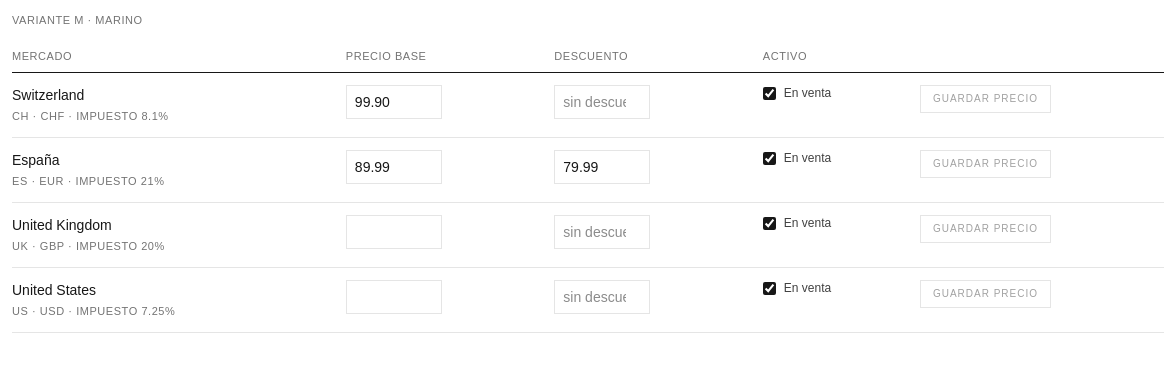
Scenario: AdminSkuPrices › rechaza en cliente una base igual a 0 (R7.4)
Expected: the text "United Kingdom" is shown, top-left (12, 217), bottom-right (112, 233)
# UK arranca vacío: escribir «0» lo deja sucio y activa el guardado
Type "0" into the number field named "Precio base en United Kingdom" in the row of "United Kingdom".
click(394, 232); type("0")  # box top-left (346, 215), bottom-right (442, 249)
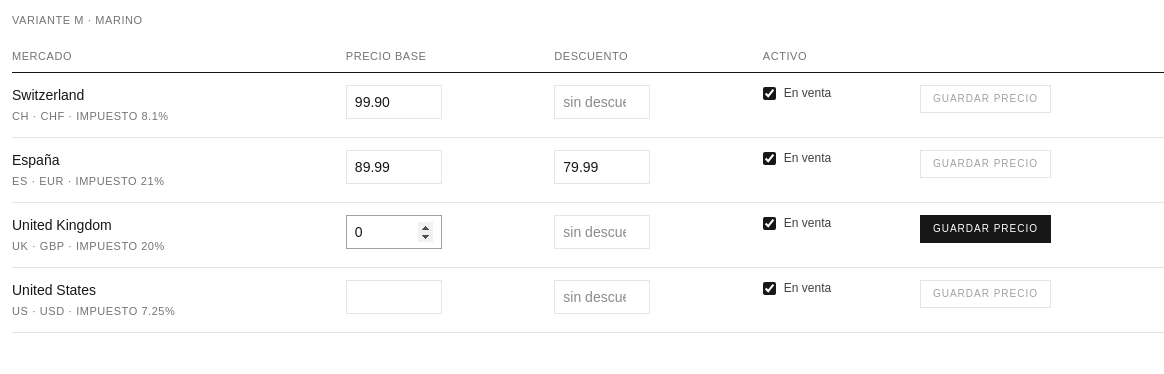
Click the button "Guardar precio" in the row of "United Kingdom".
click(985, 229)  # box top-left (920, 215), bottom-right (1051, 244)
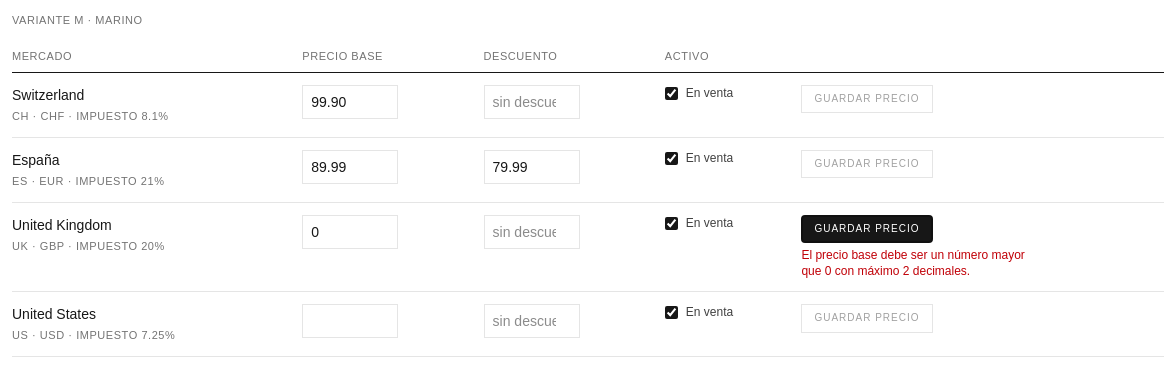
Now the text "El precio base debe ser un número mayor que 0 con máximo 2 decimales." is shown, box top-left (801, 248), bottom-right (1025, 280)
